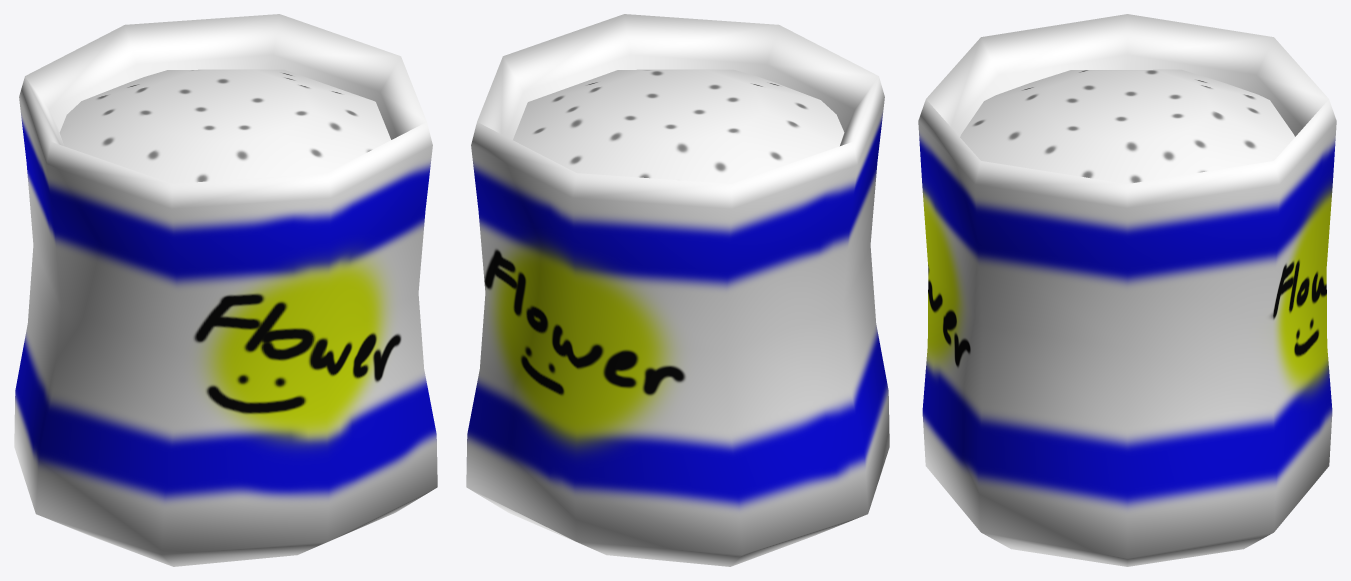
Rendered from FlourModel.fbx.
3 renders of one model, left to right at view 1: azimuth 30°, elevation 25°; view 2: azimuth 150°, elevation 25°; view 3: azimuth 270°, elevation 25°, orthographic.
Parts seen in each view (by area): view 1: Flower; view 2: Flower; view 3: Flower.
Part boxes in pixels (<box>): Flower: <box>14,14,437,566</box>; Flower: <box>466,14,889,566</box>; Flower: <box>918,14,1336,566</box>.
Bounding box in the file's own units: 18.74 × 17.94 × 19.57.
Materials: 2 (2 with a texture image).
